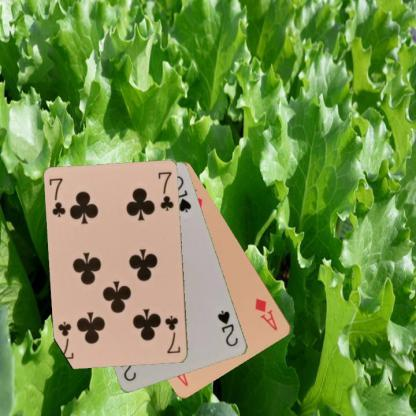2s: (215, 308, 240, 348)
7c: (47, 176, 67, 219), (162, 313, 182, 355)
Ad: (252, 295, 280, 332)
